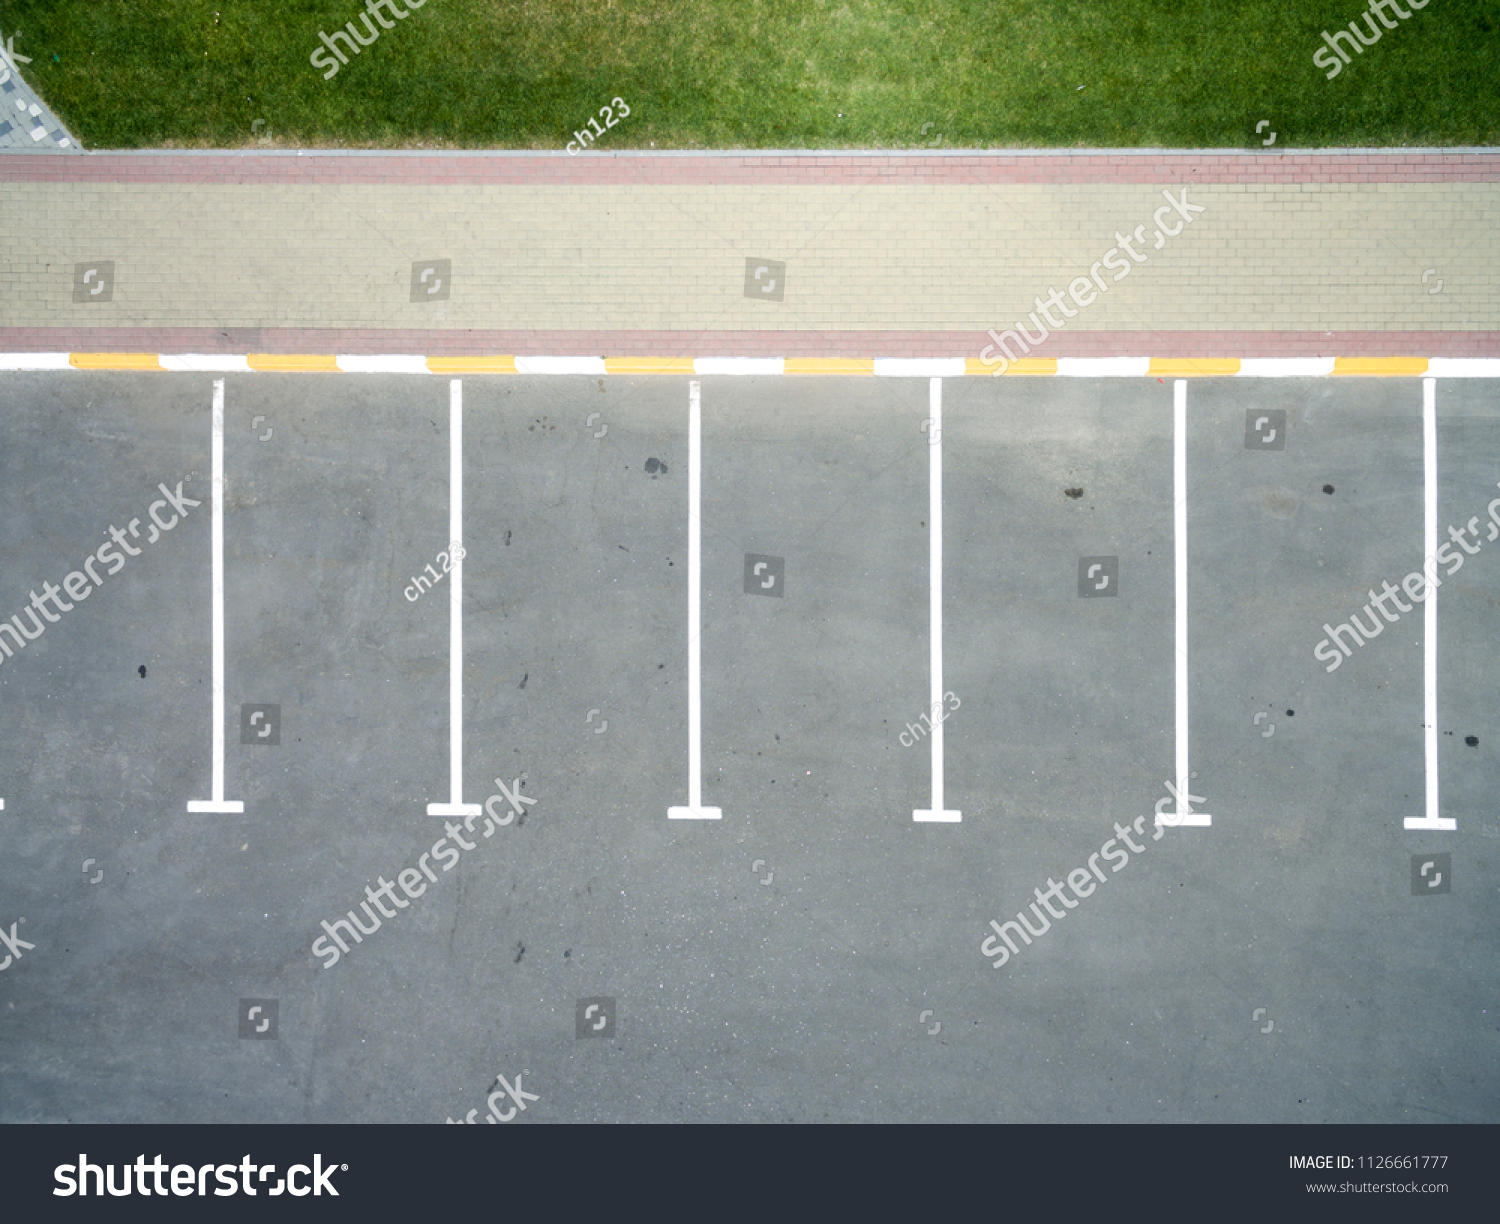LaneMark: (7, 351, 1500, 379), (685, 376, 706, 808), (1170, 376, 1189, 818), (1422, 373, 1439, 819), (928, 376, 946, 808), (211, 375, 228, 803), (450, 371, 463, 805), (420, 799, 481, 819), (1157, 810, 1215, 831), (906, 805, 963, 825), (1400, 814, 1456, 833), (667, 805, 726, 823), (187, 801, 248, 816)
